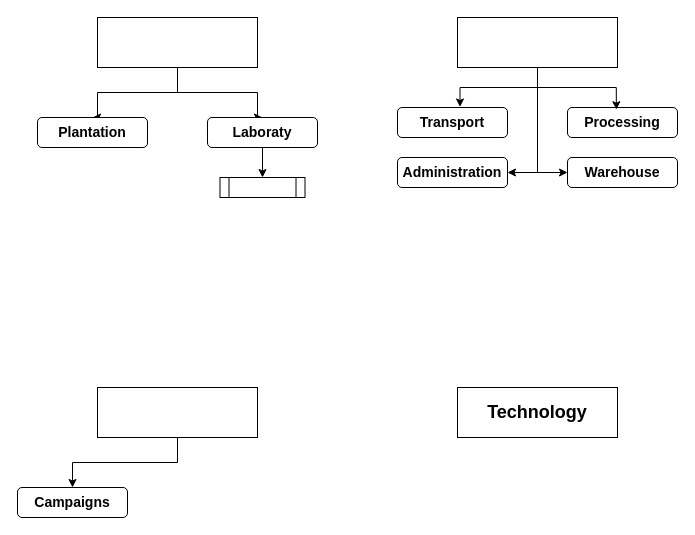
This 695x535 diagram has some shape labels left out. Here are the shapes that lost their labels. From the top down, the centre of each, then its label:
At (x=177, y=42): "Production".
At (x=537, y=42): "Logistics".
At (x=262, y=187): "R&D".
At (x=177, y=412): "Sales".
